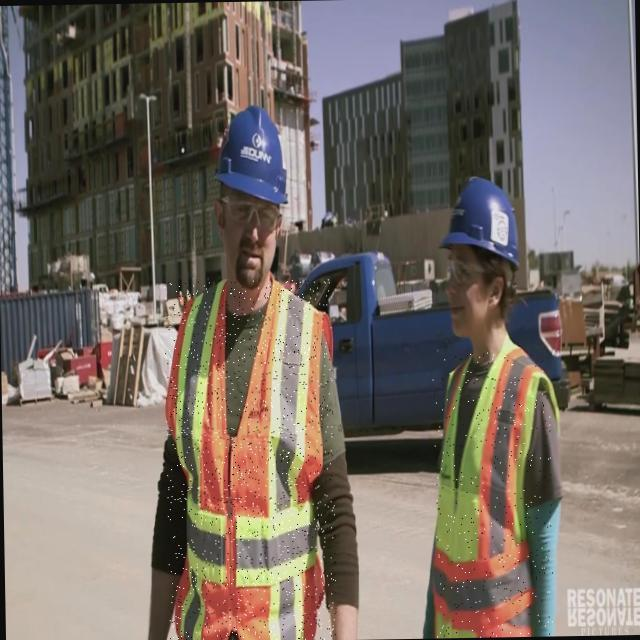helmet: (209, 85, 298, 217), (435, 165, 525, 279)
vest: (163, 278, 336, 640), (432, 351, 554, 638)
